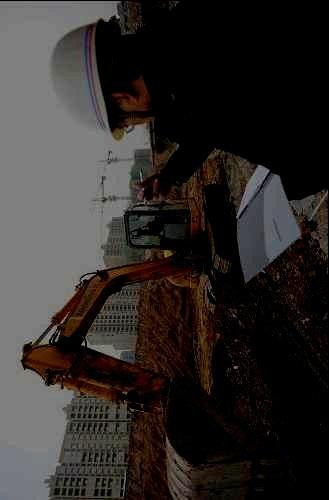helmet: (49, 14, 153, 141)
